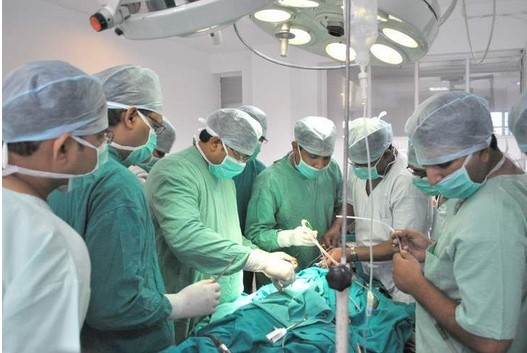face_with_mask: (11, 59, 117, 196), (413, 90, 495, 200), (99, 63, 168, 172), (202, 106, 258, 180), (344, 115, 392, 184), (291, 115, 335, 182)
